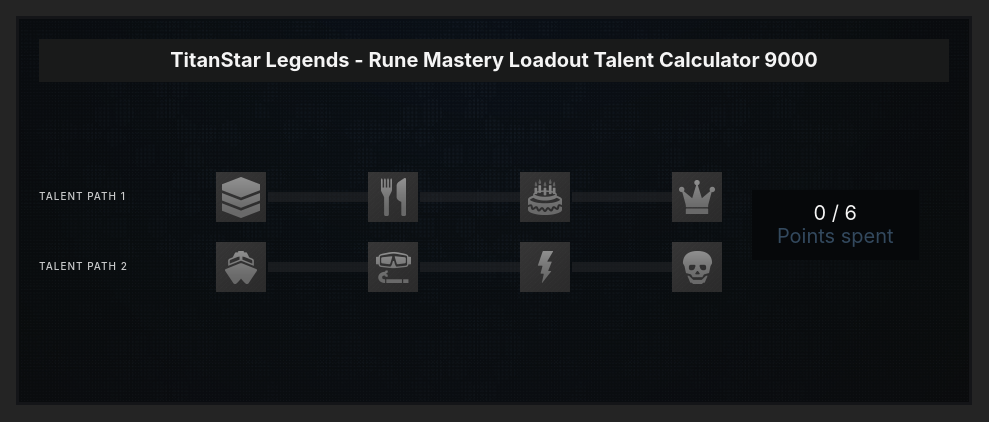
it: selects talents and increases counter
Click the tab with test id "0": (240,196) [216,172,266,222]
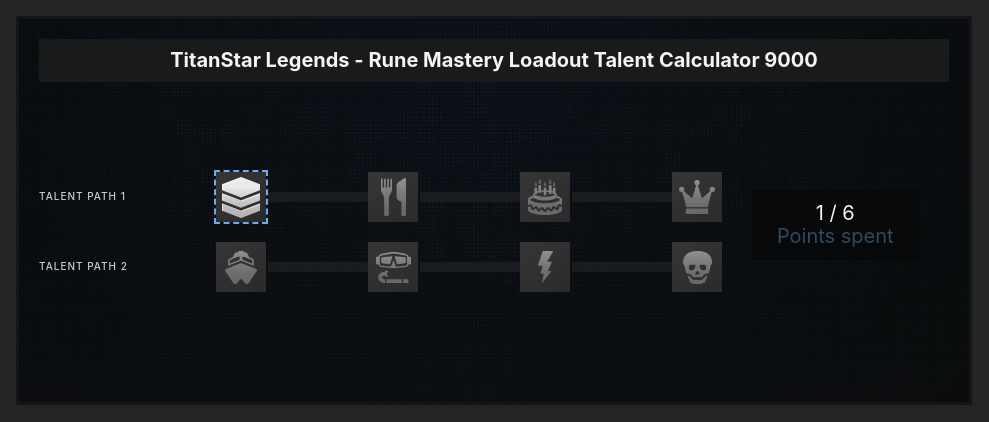
Expected: the text "1 / 6" is shown, [816,202,855,224]
Click the tab with test id "1": (392,196) [368,172,418,222]
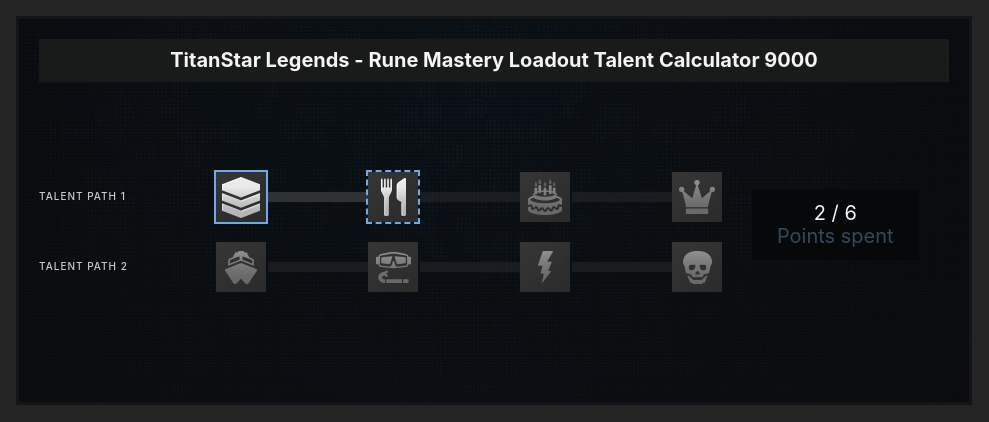
Expected: the text "2 / 6" is shown, [814,202,857,224]
